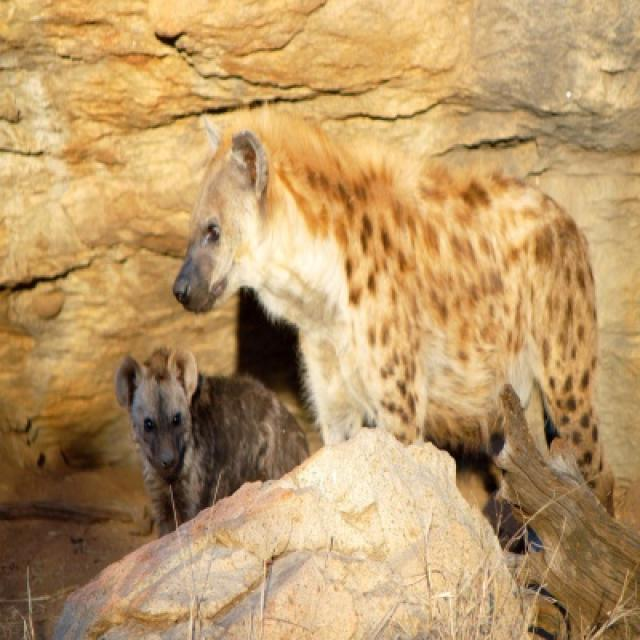hyena: (170, 112, 618, 518)
